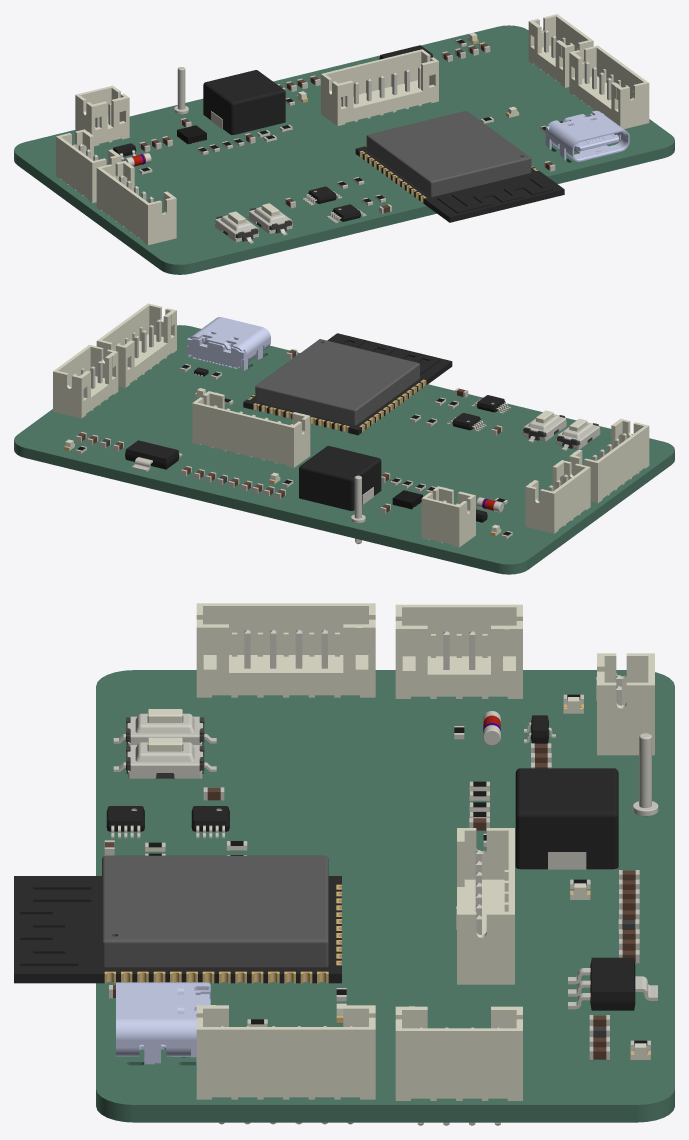
The model's file is BoardJSCoreXLite.glb.
3 views of the same model, one above another, from view 1: azimuth 30°, elevation 25°; view 2: azimuth 150°, elevation 25°; view 3: azimuth 270°, elevation 25° (orthographic). The views are drawn at different scales.
Visible parts, largest first — view 1: =>[0:1:1:23], U14, J3, J8, L1, J7, J6, J5, J9, J4, SW2, SW1 (+4 smaller); view 2: =>[0:1:1:23], U14, J3, L1, J8, J5, J7, J4, J6, J9, U8, SW1 (+5 smaller); view 3: =>[0:1:1:23], U14, J7, J8, J4, J5, L1, J3, J6, J9, U8, SW2 (+4 smaller).
Boxes of the visible parts, <box> form: =>[0:1:1:23]: <box>14,25,674,274</box>; U14: <box>355,111,564,222</box>; J3: <box>321,49,438,126</box>; J8: <box>569,45,649,128</box>; L1: <box>203,70,285,134</box>; J7: <box>96,160,176,245</box>; J6: <box>545,110,629,161</box>; J5: <box>528,14,593,87</box>; J9: <box>75,85,129,146</box>; J4: <box>56,129,121,202</box>; SW2: <box>248,203,292,235</box>; SW1: <box>215,211,258,243</box>; =>[0:1:1:23]: <box>14,325,674,574</box>; U14: <box>243,333,452,435</box>; J3: <box>192,391,310,467</box>; L1: <box>299,446,381,510</box>; J8: <box>96,303,176,387</box>; J5: <box>53,344,118,418</box>; J7: <box>569,418,649,503</box>; J4: <box>525,460,590,533</box>; J6: <box>186,317,270,370</box>; J9: <box>421,486,475,547</box>; U8: <box>125,440,182,471</box>; SW1: <box>556,418,600,451</box>; =>[0:1:1:23]: <box>96,670,674,1122</box>; U14: <box>14,855,341,983</box>; J7: <box>196,603,375,697</box>; J8: <box>196,1005,375,1124</box>; J4: <box>395,604,522,698</box>; J5: <box>395,1006,522,1125</box>; L1: <box>515,768,618,869</box>; J3: <box>456,828,514,984</box>; J6: <box>116,982,210,1064</box>; J9: <box>596,653,654,755</box>; U8: <box>568,957,657,1010</box>; SW2: <box>113,737,216,778</box>.
Bounding box in the file's own units: 0.08 × 0.0103 × 0.0514.
